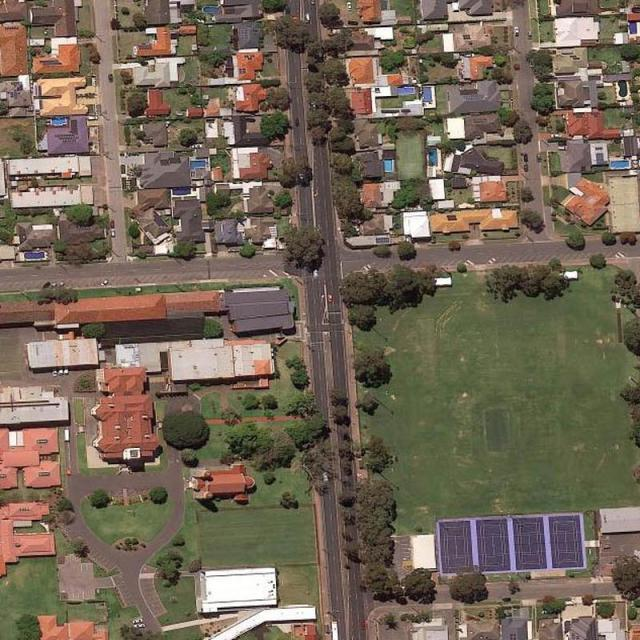vehicle: (134, 623, 146, 629), (87, 114, 99, 120), (107, 73, 114, 83), (535, 154, 542, 164), (131, 618, 142, 624), (295, 116, 301, 127), (299, 172, 305, 183), (550, 133, 563, 138), (526, 30, 534, 38), (558, 143, 567, 150), (323, 472, 328, 483), (327, 294, 333, 303), (523, 153, 529, 162), (523, 162, 529, 171), (100, 280, 108, 286), (346, 2, 352, 10), (110, 229, 115, 238), (109, 219, 114, 227), (514, 26, 518, 36), (306, 12, 310, 22), (314, 269, 318, 278)
